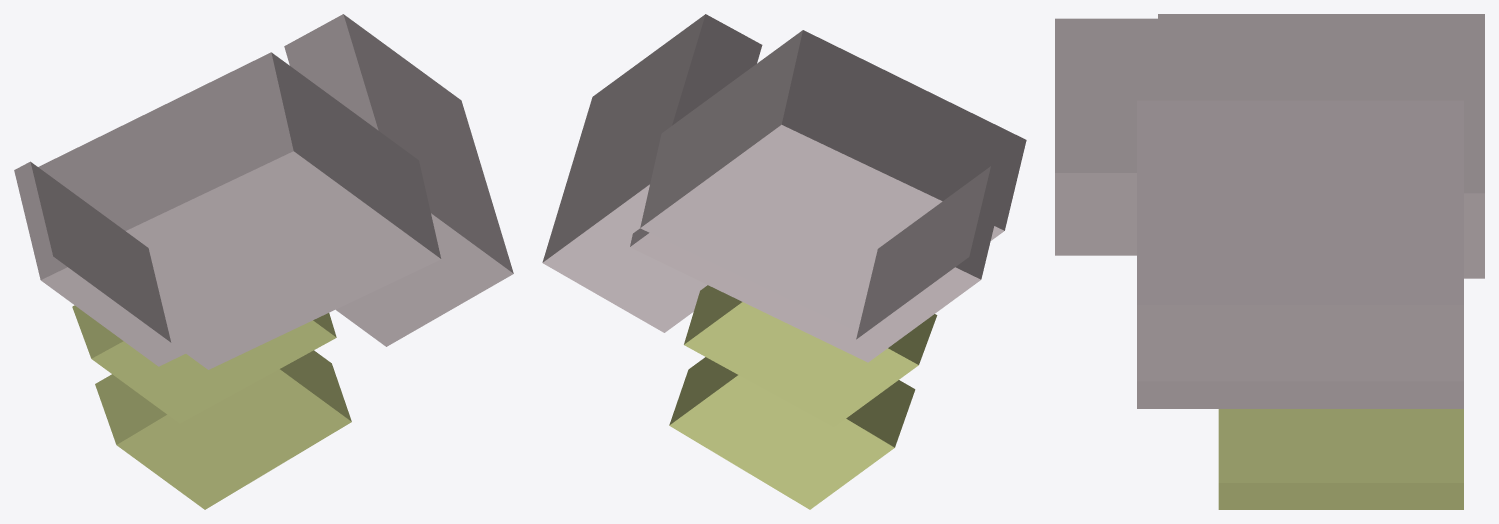
3 renders of one model, left to right at view 1: azimuth 30°, elevation 25°; view 2: azimuth 150°, elevation 25°; view 3: azimuth 270°, elevation 25°, orthographic. The views are drawn at different scales.
Parts seen in each view (by area): view 1: 0_1_3_2_2_2_2_0_0_3; view 2: 0_1_3_2_2_2_2_0_0_3; view 3: 0_1_3_2_2_2_2_0_0_3.
Part boxes in pixels (box(x1,y1,x2,y2)): 0_1_3_2_2_2_2_0_0_3: box(14, 14, 513, 509); 0_1_3_2_2_2_2_0_0_3: box(542, 14, 1026, 509); 0_1_3_2_2_2_2_0_0_3: box(1055, 14, 1484, 509).
Bounding box in the file's own units: 21.94 × 21.06 × 15.77.
